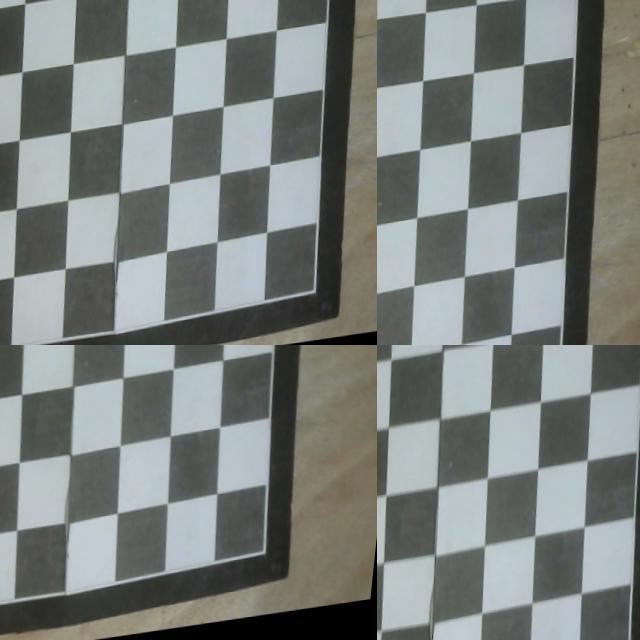chess-table-corners: (272, 557, 280, 568), (326, 300, 331, 306), (0, 624, 3, 633), (0, 345, 3, 349), (580, 0, 587, 1)
